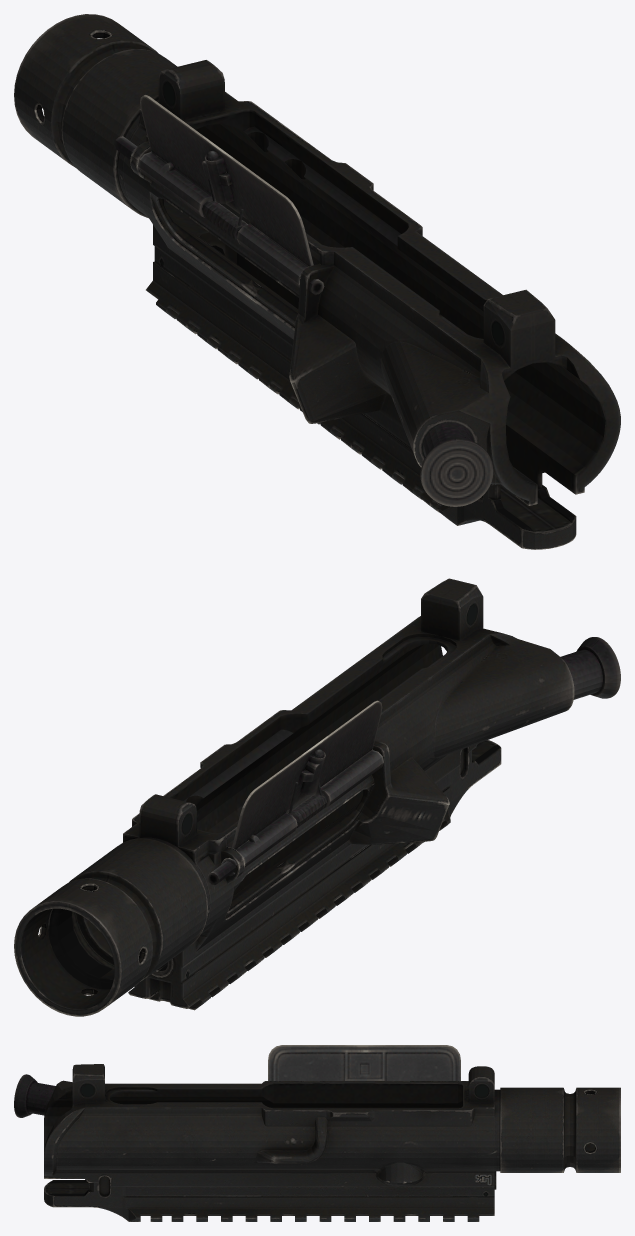
3 renders of one model, top to bottom at view 1: azimuth 30°, elevation 25°; view 2: azimuth 150°, elevation 25°; view 3: azimuth 270°, elevation 25°, orthographic. The views are drawn at different scales.
Parts seen in each view (by area): view 1: TW_5bb20d53d4351e4502010a69_PZ_Import; view 2: TW_5bb20d53d4351e4502010a69_PZ_Import; view 3: TW_5bb20d53d4351e4502010a69_PZ_Import.
Boxes of the visible parts, x1,y1,x2,y2 form: TW_5bb20d53d4351e4502010a69_PZ_Import: [14, 14, 620, 549]; TW_5bb20d53d4351e4502010a69_PZ_Import: [14, 578, 620, 1016]; TW_5bb20d53d4351e4502010a69_PZ_Import: [14, 1045, 620, 1221].
Bounding box in the file's own units: 0.0364 × 0.1424 × 0.0381.
Materials: 1 (1 with a texture image).
